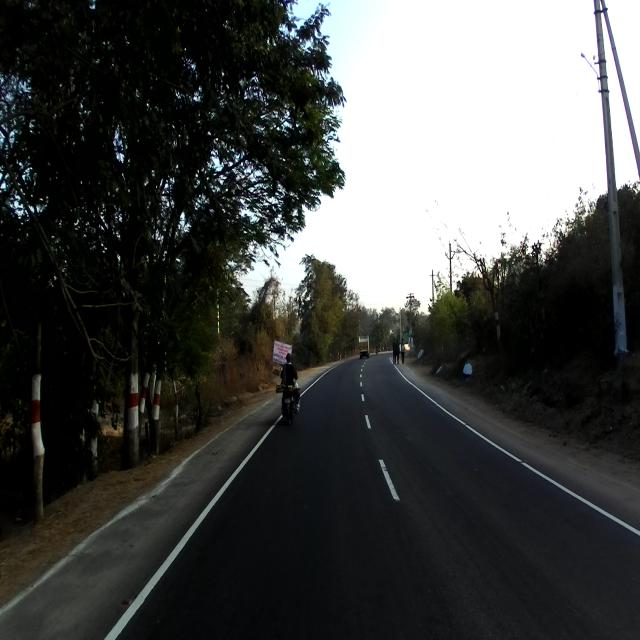tree ahead at: (20, 270, 59, 532), (118, 270, 158, 458)
